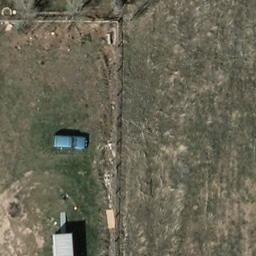car: (52, 135, 92, 150)
